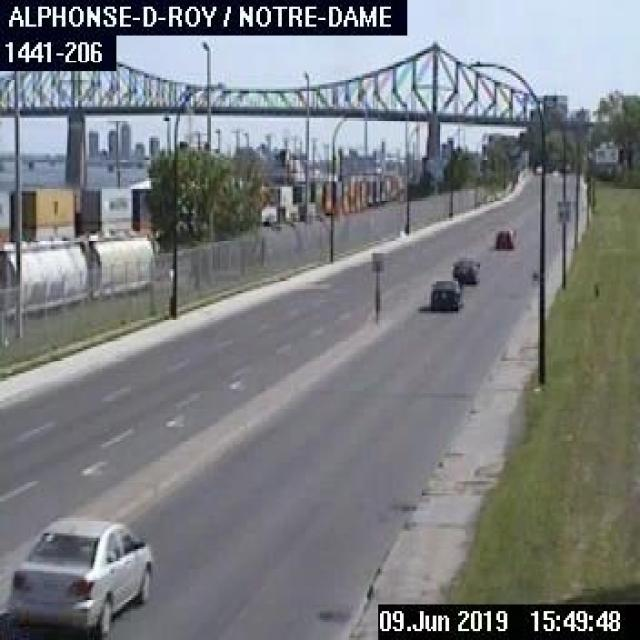vehicle: (9, 515, 150, 633), (428, 277, 460, 311), (451, 256, 478, 284), (491, 225, 515, 249), (550, 168, 557, 175)
